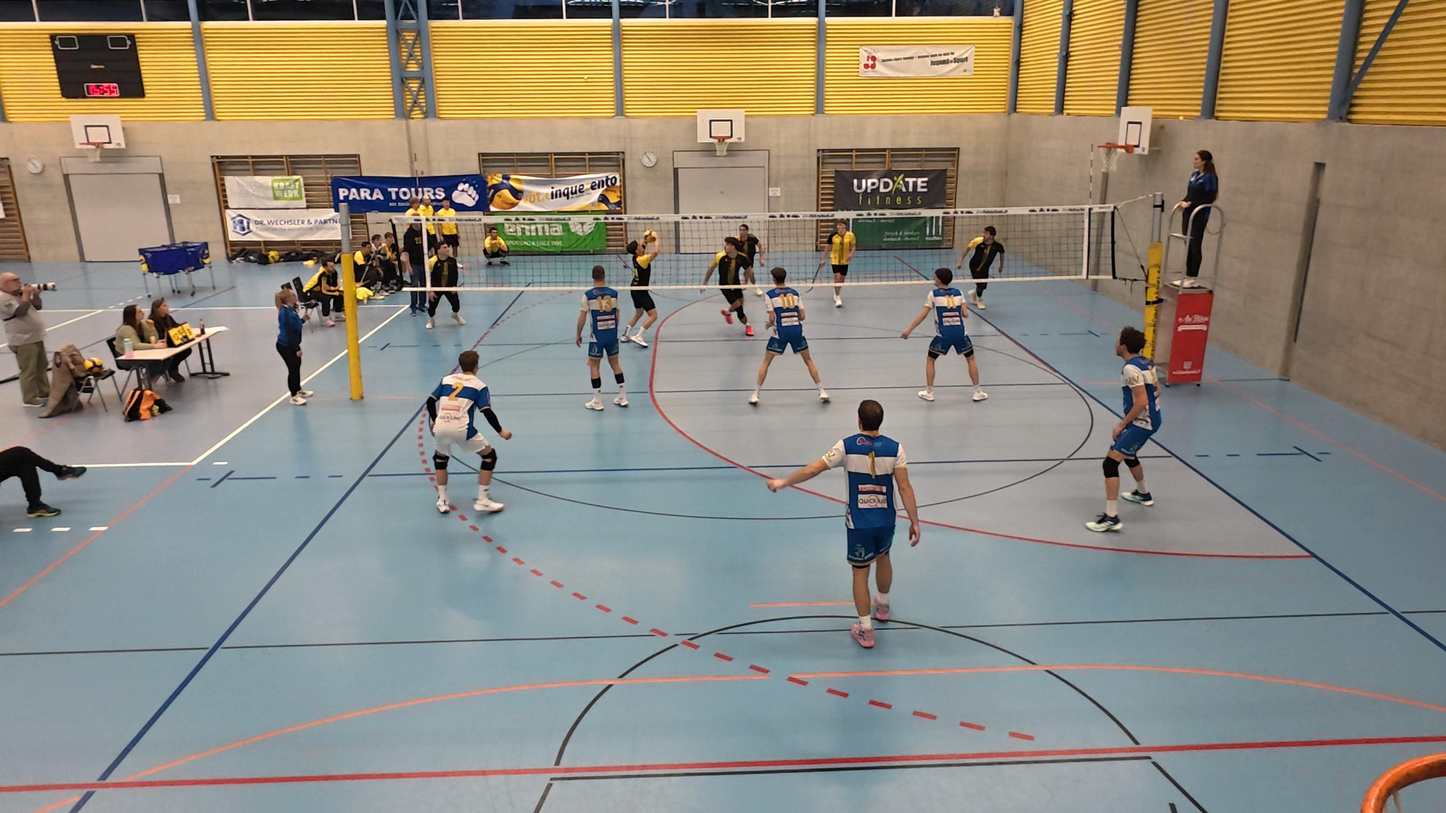Player: (774, 400, 922, 648), (420, 349, 511, 516), (1090, 328, 1162, 532), (748, 269, 831, 408), (903, 268, 986, 403), (574, 265, 633, 410), (704, 237, 754, 334), (422, 238, 464, 329), (965, 225, 1004, 315), (725, 224, 769, 296), (824, 225, 854, 309)
Set: (616, 231, 664, 348)
ball: (637, 225, 659, 246)
